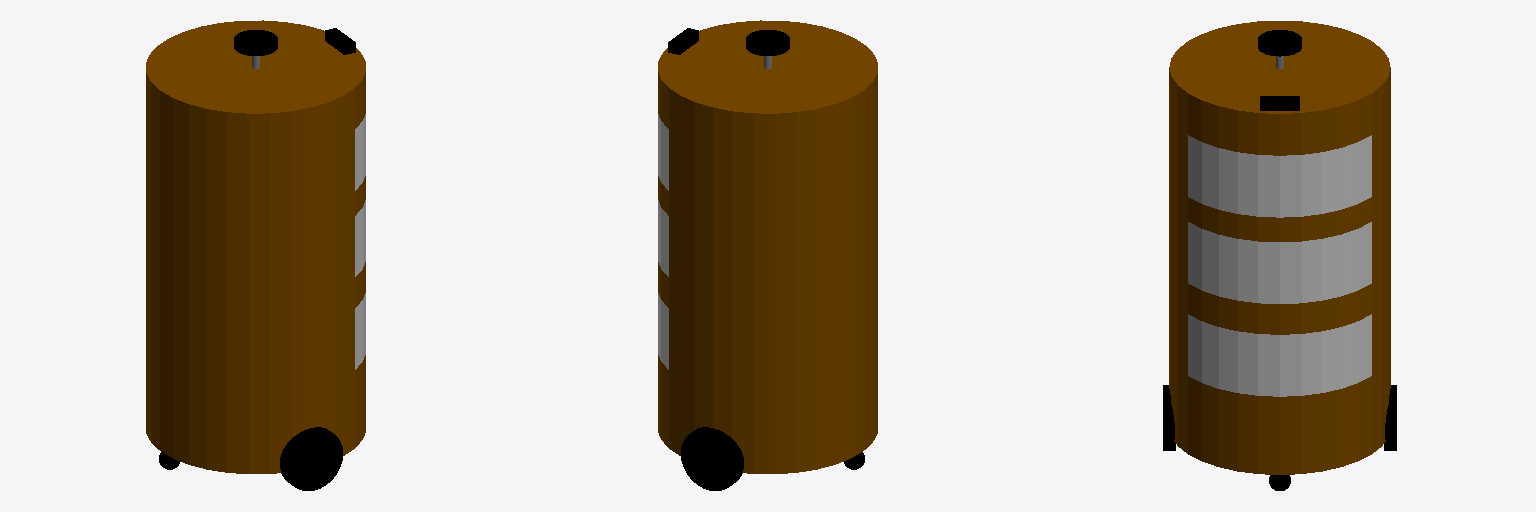
The robot description file, URDF, robot "my_car_camera":
<?xml version="1.0" ?>
<!-- =================================================================================== -->
<!-- |    This document was autogenerated by xacro from test.xacro                     | -->
<!-- |    EDITING THIS FILE BY HAND IS NOT RECOMMENDED                                 | -->
<!-- =================================================================================== -->
<!-- 组合小车底盘与摄像头 -->
<robot name="my_car_camera">
  <!-- 底盘 -->
  <link name="base_footprint">
    <visual>
      <geometry>
        <sphere radius="0.001"/>
      </geometry>
    </visual>
  </link>
  <link name="base_link">
    <visual>
      <geometry>
        <!-- 使用DAE模型作为视觉 -->
        <mesh filename="package://zj_base/meshes/modle.dae"/>
      </geometry>
      <origin rpy="0 0 0" xyz="0 0 0"/>
      <material name="yellow">
        <color rgba="0.5 0.3 0.0 0.5"/>
      </material>
    </visual>
    <collision>
      <geometry>
        <!-- 使用相同的DAE模型作为碰撞体 -->
        <mesh filename="package://zj_base/meshes/modle.dae"/>
      </geometry>
      <origin rpy="0 0 0" xyz="0 0 0"/>
    </collision>
    <inertial>
      <mass value="5.0"/>
      <inertia ixx="0.4156250000000001" ixy="0" ixz="0" iyy="0.4156250000000001" iyz="0" izz="0.15625"/>
    </inertial>
  </link>
  <joint name="base_link2base_footprint" type="fixed">
    <parent link="base_footprint"/>
    <child link="base_link"/>
    <origin xyz="0 0 0.5"/>
  </joint>
  <!-- <gazebo reference="base_link">
        <material>Gazebo/Yellow</material>
    </gazebo> -->
  <link name="left_wheel">
    <visual>
      <geometry>
        <cylinder length="0.03" radius="0.075"/>
      </geometry>
      <origin rpy="1.5707963 0.0 0.0" xyz="0.0 0.0 0.0"/>
      <material name="black">
        <color rgba="0.0 0.0 0.0 1.0"/>
      </material>
    </visual>
    <collision>
      <geometry>
        <cylinder length="0.03" radius="0.075"/>
      </geometry>
      <origin rpy="1.5707963 0.0 0.0" xyz="0.0 0.0 0.0"/>
    </collision>
    <inertial>
      <mass value="0.2"/>
      <inertia ixx="0.00029625" ixy="0" ixz="0" iyy="0.00029625" iyz="0" izz="0.0005625"/>
    </inertial>
  </link>
  <joint name="left_wheel2base_link" type="continuous">
    <parent link="base_link"/>
    <child link="left_wheel"/>
    <origin xyz="0 0.25 -0.425"/>
    <axis xyz="0 1 0"/>
  </joint>
  <gazebo reference="left_wheel">
    <material>Gazebo/Black</material>
  </gazebo>
  <link name="right_wheel">
    <visual>
      <geometry>
        <cylinder length="0.03" radius="0.075"/>
      </geometry>
      <origin rpy="1.5707963 0.0 0.0" xyz="0.0 0.0 0.0"/>
      <material name="black">
        <color rgba="0.0 0.0 0.0 1.0"/>
      </material>
    </visual>
    <collision>
      <geometry>
        <cylinder length="0.03" radius="0.075"/>
      </geometry>
      <origin rpy="1.5707963 0.0 0.0" xyz="0.0 0.0 0.0"/>
    </collision>
    <inertial>
      <mass value="0.2"/>
      <inertia ixx="0.00029625" ixy="0" ixz="0" iyy="0.00029625" iyz="0" izz="0.0005625"/>
    </inertial>
  </link>
  <joint name="right_wheel2base_link" type="continuous">
    <parent link="base_link"/>
    <child link="right_wheel"/>
    <origin xyz="0 -0.25 -0.425"/>
    <axis xyz="0 1 0"/>
  </joint>
  <gazebo reference="right_wheel">
    <material>Gazebo/Black</material>
  </gazebo>
  <link name="front_wheel">
    <visual>
      <geometry>
        <sphere radius="0.025"/>
      </geometry>
      <origin rpy="0 0 0" xyz="0 0 0"/>
      <material name="black">
        <color rgba="0.0 0.0 0.0 1.0"/>
      </material>
    </visual>
    <collision>
      <geometry>
        <sphere radius="0.025"/>
      </geometry>
      <origin rpy="0 0 0" xyz="0 0 0"/>
    </collision>
    <inertial>
      <mass value="0.1"/>
      <inertia ixx="2.5000000000000005e-05" ixy="0" ixz="0" iyy="2.5000000000000005e-05" iyz="0" izz="2.5000000000000005e-05"/>
    </inertial>
  </link>
  <joint name="front_wheel2base_link" type="continuous">
    <parent link="base_link"/>
    <child link="front_wheel"/>
    <origin xyz="0.225 0 -0.47500000000000003"/>
    <axis xyz="1 0 0"/>
  </joint>
  <gazebo reference="front_wheel">
    <material>Gazebo/Black</material>
    <mu1>0.0</mu1>
    <mu2>0.0</mu2>
    <kp>1000000.0</kp>
    <kd>100.0</kd>
  </gazebo>
  <link name="back_wheel">
    <visual>
      <geometry>
        <sphere radius="0.025"/>
      </geometry>
      <origin rpy="0 0 0" xyz="0 0 0"/>
      <material name="black">
        <color rgba="0.0 0.0 0.0 1.0"/>
      </material>
    </visual>
    <collision>
      <geometry>
        <sphere radius="0.025"/>
      </geometry>
      <origin rpy="0 0 0" xyz="0 0 0"/>
    </collision>
    <inertial>
      <mass value="0.1"/>
      <inertia ixx="2.5000000000000005e-05" ixy="0" ixz="0" iyy="2.5000000000000005e-05" iyz="0" izz="2.5000000000000005e-05"/>
    </inertial>
  </link>
  <joint name="back_wheel2base_link" type="continuous">
    <parent link="base_link"/>
    <child link="back_wheel"/>
    <origin xyz="-0.225 0 -0.47500000000000003"/>
    <axis xyz="1 0 0"/>
  </joint>
  <gazebo reference="back_wheel">
    <material>Gazebo/Black</material>
    <mu1>0.0</mu1>
    <mu2>0.0</mu2>
    <kp>1000000.0</kp>
    <kd>100.0</kd>
  </gazebo>
  <!-- ==================== 传动装置宏定义 ==================== -->
  <!-- ==================== 应用传动装置 ==================== -->
  <transmission name="left_wheel2base_link_trans">
    <type>transmission_interface/SimpleTransmission</type>
    <joint name="left_wheel2base_link">
      <hardwareInterface>hardware_interface/VelocityJointInterface</hardwareInterface>
    </joint>
    <actuator name="left_wheel2base_link_motor">
      <hardwareInterface>hardware_interface/VelocityJointInterface</hardwareInterface>
      <mechanicalReduction>1</mechanicalReduction>
    </actuator>
  </transmission>
  <transmission name="right_wheel2base_link_trans">
    <type>transmission_interface/SimpleTransmission</type>
    <joint name="right_wheel2base_link">
      <hardwareInterface>hardware_interface/VelocityJointInterface</hardwareInterface>
    </joint>
    <actuator name="right_wheel2base_link_motor">
      <hardwareInterface>hardware_interface/VelocityJointInterface</hardwareInterface>
      <mechanicalReduction>1</mechanicalReduction>
    </actuator>
  </transmission>
  <transmission name="drawer2base_link_trans">
    <type>transmission_interface/SimpleTransmission</type>
    <joint name="drawer2base_link">
      <hardwareInterface>hardware_interface/EffortJointInterface</hardwareInterface>
    </joint>
    <actuator name="drawer2base_link_motor">
      <hardwareInterface>hardware_interface/EffortJointInterface</hardwareInterface>
      <mechanicalReduction>1</mechanicalReduction>
    </actuator>
  </transmission>
  <transmission name="drawer22base_link_trans">
    <type>transmission_interface/SimpleTransmission</type>
    <joint name="drawer22base_link">
      <hardwareInterface>hardware_interface/EffortJointInterface</hardwareInterface>
    </joint>
    <actuator name="drawer22base_link_motor">
      <hardwareInterface>hardware_interface/EffortJointInterface</hardwareInterface>
      <mechanicalReduction>1</mechanicalReduction>
    </actuator>
  </transmission>
  <transmission name="drawer32base_link_trans">
    <type>transmission_interface/SimpleTransmission</type>
    <joint name="drawer32base_link">
      <hardwareInterface>hardware_interface/EffortJointInterface</hardwareInterface>
    </joint>
    <actuator name="drawer32base_link_motor">
      <hardwareInterface>hardware_interface/EffortJointInterface</hardwareInterface>
      <mechanicalReduction>1</mechanicalReduction>
    </actuator>
  </transmission>
  <!-- ==================== Gazebo 插件配置 ==================== -->
  <!-- 统一的 Gazebo ROS Control 插件 -->
  <gazebo>
    <plugin filename="libgazebo_ros_control.so" name="gazebo_ros_control">
      <robotNamespace>/</robotNamespace>
      <robotSimType>gazebo_ros_control/DefaultRobotHWSim</robotSimType>
      <controlPeriod>0.001</controlPeriod>
      <!-- 可选：配置所有关节的默认PID -->
      <jointInterfaceDefaults>
        <effort>
          <p>100.0</p>
          <i>1.0</i>
          <d>5.0</d>
        </effort>
        <velocity>
          <p>1000.0</p>
          <i>0.1</i>
          <d>0.0</d>
        </velocity>
      </jointInterfaceDefaults>
    </plugin>
  </gazebo>
  <!-- 支架安装的z坐标:底盘高度 / 2 + 支架高度 / 2  -->
  <link name="suport">
    <visual>
      <geometry>
        <cylinder length="0.05" radius="0.01"/>
      </geometry>
      <origin rpy="0 0 0" xyz="0.0 0.0 0.0"/>
      <material name="grey">
        <color rgba="0.5 0.5 0.5 1.0"/>
      </material>
    </visual>
    <collision>
      <geometry>
        <cylinder length="0.05" radius="0.01"/>
      </geometry>
      <origin rpy="0 0 0" xyz="0.0 0.0 0.0"/>
    </collision>
    <inertial>
      <origin xyz="0 0 0"/>
      <mass value="0.1"/>
      <inertia ixx="0.0001" ixy="0" ixz="0" iyy="0.0001" iyz="0" izz="0.0001"/>
    </inertial>
  </link>
  <joint name="support2base_link" type="fixed">
    <parent link="base_link"/>
    <child link="suport"/>
    <origin rpy="0 0 0" xyz="0 0 0.47500000000000003"/>
  </joint>
  <link name="laser">
    <visual>
      <geometry>
        <cylinder length="0.02" radius="0.05"/>
      </geometry>
      <origin rpy="0 0 0" xyz="0 0 0"/>
      <material name="black">
        <color rgba="0.0 0.0 0.0 1.0"/>
      </material>
    </visual>
    <collision>
      <geometry>
        <cylinder length="0.02" radius="0.05"/>
      </geometry>
      <origin rpy="0 0 0" xyz="0 0 0"/>
    </collision>
    <inertial>
      <origin xyz="0 0 0"/>
      <mass value="0.2"/>
      <inertia ixx="0.0001" ixy="0" ixz="0" iyy="0.0001" iyz="0" izz="0.0001"/>
    </inertial>
  </link>
  <joint name="laser2support" type="fixed">
    <parent link="suport"/>
    <child link="laser"/>
    <origin rpy="0 0 0" xyz="0 0 0.035"/>
  </joint>
  <!-- 雷达 -->
  <gazebo reference="laser">
    <sensor name="rplidar" type="ray">
      <pose>0 0 0 0 0 0</pose>
      <visualize>false</visualize>
      <update_rate>5.5</update_rate>
      <ray>
        <scan>
          <horizontal>
            <samples>360</samples>
            <resolution>1</resolution>
            <min_angle>-3.14159</min_angle>
            <max_angle>3.14159</max_angle>
          </horizontal>
        </scan>
        <range>
          <min>0.10</min>
          <max>30.0</max>
          <resolution>0.01</resolution>
        </range>
        <noise>
          <type>gaussian</type>
          <mean>0.0</mean>
          <stddev>0.01</stddev>
        </noise>
      </ray>
      <plugin filename="libgazebo_ros_laser.so" name="gazebo_rplidar">
        <topicName>/scan</topicName>
        <frameName>laser</frameName>
      </plugin>
    </sensor>
  </gazebo>
  <!-- 抽屉组件1 - 使用DAE格式的mesh碰撞体 -->
  <link name="drawer">
    <visual>
      <geometry>
        <!-- 替换为DAE文件 -->
        <mesh filename="package://zj_base/meshes/mdae.dae"/>
      </geometry>
      <origin rpy="0 0 0" xyz="0 0 0"/>
      <material name="drawer_material">
        <color rgba="0.8 0.8 0.8 1.0"/>
      </material>
    </visual>
    <collision>
      <geometry>
        <!-- 替换为DAE文件 -->
        <mesh filename="package://zj_base/meshes/mdae.dae"/>
      </geometry>
      <origin rpy="0 0 0" xyz="0 0 0"/>
      <surface>
        <contact>
          <ode>
            <soft_cfm>0.0</soft_cfm>
            <soft_erp>0.2</soft_erp>
            <kp>1e12</kp>
            <!-- 大幅增加接触刚度防止穿透 -->
            <kd>1000</kd>
            <!-- 增加接触阻尼 -->
            <max_vel>10.0</max_vel>
            <!-- 增加最大接触速度 -->
            <min_depth>0.0001</min_depth>
            <!-- 减小最小穿透深度 -->
          </ode>
        </contact>
        <friction>
          <ode>
            <mu>1.0</mu>
            <!-- 增加摩擦系数 -->
            <mu2>0.8</mu2>
            <slip1>0.0</slip1>
            <slip2>0.0</slip2>
            <fdir1>1 0 0</fdir1>
          </ode>
        </friction>
        <bounce>
          <restitution_coefficient>0.0</restitution_coefficient>
          <threshold>1.0</threshold>
        </bounce>
      </surface>
    </collision>
    <inertial>
      <origin xyz="0 0 0"/>
      <mass value="2.0"/>
      <!-- 适当增加质量提高稳定性 -->
      <inertia ixx="0.001" ixy="0" ixz="0" iyy="0.001" iyz="0" izz="0.001"/>
    </inertial>
  </link>
  <joint name="drawer2base_link" type="prismatic">
    <parent link="base_link"/>
    <child link="drawer"/>
    <origin rpy="0 0 0" xyz="0 0 0"/>
    <axis xyz="1 0 0"/>
    <limit effort="1000" lower="0" upper="0.2" velocity="2.0"/>
    <!-- 增加effort -->
    <dynamics damping="0.1" friction="0.0"/>
    <!-- 适当增加阻尼 -->
  </joint>
  <gazebo reference="drawer">
    <material>Gazebo/Grey</material>
    <selfCollide>true</selfCollide>
    <mu1>1.0</mu1>
    <!-- 增加摩擦 -->
    <mu2>0.8</mu2>
    <kp>1e12</kp>
    <!-- 大幅增加接触刚度 -->
    <kd>1000.0</kd>
    <!-- 增加接触阻尼 -->
    <minDepth>0.0001</minDepth>
    <!-- 减小最小穿透深度 -->
    <maxVel>10.0</maxVel>
    <!-- 增加最大接触速度 -->
    <laserRetro>0</laserRetro>
  </gazebo>
  <gazebo reference="drawer2base_link">
    <stopCfm>0.0</stopCfm>
    <stopErp>0.9</stopErp>
    <!-- 增加ERP提高约束精度 -->
    <provideFeedback>true</provideFeedback>
    <physics>
      <ode>
        <limit>
          <cfm>0.0</cfm>
          <erp>0.9</erp>
          <!-- 增加ERP -->
        </limit>
        <fdir1>1 0 0</fdir1>
        <friction>1.0 0.8 0.0</friction>
        <!-- 增加摩擦 -->
        <suspension>
          <cfm>0.0</cfm>
          <erp>0.9</erp>
        </suspension>
      </ode>
    </physics>
  </gazebo>
  <!-- 抽屉组件2 - 保持STL格式 -->
  <link name="drawer2">
    <visual>
      <geometry>
        <mesh filename="package://zj_base/meshes/box2.dae"/>
      </geometry>
      <origin rpy="0 0 0" xyz="0 0 0"/>
      <material name="drawer_material">
        <color rgba="0.8 0.8 0.8 1.0"/>
      </material>
    </visual>
    <collision>
      <geometry>
        <mesh filename="package://zj_base/meshes/box2.dae"/>
      </geometry>
      <origin rpy="0 0 0" xyz="0 0 0"/>
      <surface>
        <contact>
          <ode>
            <soft_cfm>0.0</soft_cfm>
            <soft_erp>0.2</soft_erp>
            <kp>1e12</kp>
            <kd>1000</kd>
            <max_vel>10.0</max_vel>
            <min_depth>0.0001</min_depth>
          </ode>
        </contact>
        <friction>
          <ode>
            <mu>1.0</mu>
            <mu2>0.8</mu2>
            <slip1>0.0</slip1>
            <slip2>0.0</slip2>
            <fdir1>1 0 0</fdir1>
          </ode>
        </friction>
        <bounce>
          <restitution_coefficient>0.0</restitution_coefficient>
          <threshold>1.0</threshold>
        </bounce>
      </surface>
    </collision>
    <inertial>
      <origin xyz="0 0 0"/>
      <mass value="2.0"/>
      <inertia ixx="0.001" ixy="0" ixz="0" iyy="0.001" iyz="0" izz="0.001"/>
    </inertial>
  </link>
  <joint name="drawer22base_link" type="prismatic">
    <parent link="base_link"/>
    <child link="drawer2"/>
    <origin rpy="0 0 0" xyz="0 0 0"/>
    <axis xyz="1 0 0"/>
    <limit effort="1000" lower="0" upper="0.2" velocity="2.0"/>
    <dynamics damping="0.1" friction="0.0"/>
  </joint>
  <gazebo reference="drawer2">
    <material>Gazebo/Grey</material>
    <selfCollide>true</selfCollide>
    <mu1>1.0</mu1>
    <mu2>0.8</mu2>
    <kp>1e12</kp>
    <kd>1000.0</kd>
    <minDepth>0.0001</minDepth>
    <maxVel>10.0</maxVel>
    <laserRetro>0</laserRetro>
  </gazebo>
  <gazebo reference="drawer22base_link">
    <stopCfm>0.0</stopCfm>
    <stopErp>0.9</stopErp>
    <provideFeedback>true</provideFeedback>
    <physics>
      <ode>
        <limit>
          <cfm>0.0</cfm>
          <erp>0.9</erp>
        </limit>
        <fdir1>1 0 0</fdir1>
        <friction>1.0 0.8 0.0</friction>
        <suspension>
          <cfm>0.0</cfm>
          <erp>0.9</erp>
        </suspension>
      </ode>
    </physics>
  </gazebo>
  <!-- 抽屉组件3 - 保持STL格式 -->
  <link name="drawer3">
    <visual>
      <geometry>
        <mesh filename="package://zj_base/meshes/box3.dae"/>
      </geometry>
      <origin rpy="0 0 0" xyz="0 0 0"/>
      <material name="drawer_material">
        <color rgba="0.8 0.8 0.8 1.0"/>
      </material>
    </visual>
    <collision>
      <geometry>
        <mesh filename="package://zj_base/meshes/box3.dae"/>
      </geometry>
      <origin rpy="0 0 0" xyz="0 0 0"/>
      <surface>
        <contact>
          <ode>
            <soft_cfm>0.0</soft_cfm>
            <soft_erp>0.2</soft_erp>
            <kp>1e12</kp>
            <kd>1000</kd>
            <max_vel>10.0</max_vel>
            <min_depth>0.0001</min_depth>
          </ode>
        </contact>
        <friction>
          <ode>
            <mu>1.0</mu>
            <mu2>0.8</mu2>
            <slip1>0.0</slip1>
            <slip2>0.0</slip2>
            <fdir1>1 0 0</fdir1>
          </ode>
        </friction>
        <bounce>
          <restitution_coefficient>0.0</restitution_coefficient>
          <threshold>1.0</threshold>
        </bounce>
      </surface>
    </collision>
    <inertial>
      <origin xyz="0 0 0"/>
      <mass value="2.0"/>
      <inertia ixx="0.001" ixy="0" ixz="0" iyy="0.001" iyz="0" izz="0.001"/>
    </inertial>
  </link>
  <joint name="drawer32base_link" type="prismatic">
    <parent link="base_link"/>
    <child link="drawer3"/>
    <origin rpy="0 0 0" xyz="0 0 0"/>
    <axis xyz="1 0 0"/>
    <limit effort="1000" lower="0" upper="0.2" velocity="2.0"/>
    <dynamics damping="0.1" friction="0.0"/>
  </joint>
  <gazebo reference="drawer3">
    <material>Gazebo/Grey</material>
    <selfCollide>true</selfCollide>
    <mu1>1.0</mu1>
    <mu2>0.8</mu2>
    <kp>1e12</kp>
    <kd>1000.0</kd>
    <minDepth>0.0001</minDepth>
    <maxVel>10.0</maxVel>
    <laserRetro>0</laserRetro>
  </gazebo>
  <gazebo reference="drawer32base_link">
    <stopCfm>0.0</stopCfm>
    <stopErp>0.9</stopErp>
    <provideFeedback>true</provideFeedback>
    <physics>
      <ode>
        <limit>
          <cfm>0.0</cfm>
          <erp>0.9</erp>
        </limit>
        <fdir1>1 0 0</fdir1>
        <friction>1.0 0.8 0.0</friction>
        <suspension>
          <cfm>0.0</cfm>
          <erp>0.9</erp>
        </suspension>
      </ode>
    </physics>
  </gazebo>
  <!-- 定义深度相机的link -->
  <link name="depth_camera">
    <visual>
      <geometry>
        <box size="0.09 0.03 0.025"/>
      </geometry>
      <origin rpy="0 0 1.5705" xyz="0 0 0"/>
      <material name="black">
        <color rgba="0.0 0.0 0.0 1.0"/>
      </material>
    </visual>
    <collision>
      <geometry>
        <box size="0.09 0.03 0.025"/>
      </geometry>
      <origin rpy="0 0 1.5705" xyz="0 0 0"/>
    </collision>
    <inertial>
      <origin xyz="0 0 0"/>
      <mass value="0.15"/>
      <!-- 深度相机稍重一些 -->
      <inertia ixx="0.0001" ixy="0" ixz="0" iyy="0.0001" iyz="0" izz="0.0001"/>
    </inertial>
  </link>
  <!-- 将深度相机连接到base_link -->
  <joint name="depth_camera2base_link" type="fixed">
    <parent link="base_link"/>
    <child link="depth_camera"/>
    <origin rpy="0 0 0" xyz="0.22 0.0 0.4625"/>
  </joint>
  <!-- Gazebo可视化材质 -->
  <gazebo reference="depth_camera">
    <material>Gazebo/Black</material>
  </gazebo>
  <!-- 深度相机传感器配置 -->
  <gazebo reference="depth_camera">
    <!-- 类型设置为 depth -->
    <sensor name="depth_camera_node" type="depth">
      <update_rate>30.0</update_rate>
      <!-- 摄像头基本信息设置 -->
      <camera name="depth_head">
        <horizontal_fov>1.52</horizontal_fov>
        <image>
          <width>640</width>
          <height>480</height>
          <format>L8</format>
          <!-- 改为L8或L16 -->
        </image>
        <clip>
          <near>0.2</near>
          <far>10.0</far>
        </clip>
        <noise>
          <type>gaussian</type>
          <mean>0.0</mean>
          <stddev>0.01</stddev>
        </noise>
      </camera>
      <!-- 深度图专用参数 -->
      <depth>
        <shift>0.0</shift>
        <noise>
          <type>gaussian</type>
          <mean>0.0</mean>
          <stddev>0.02</stddev>
        </noise>
      </depth>
      <!-- 核心插件 -->
      <plugin filename="libgazebo_ros_depth_camera.so" name="gazebo_depth_camera">
        <alwaysOn>true</alwaysOn>
        <updateRate>0.0</updateRate>
        <!-- 相机名称前缀 -->
        <cameraName>/depth_camera</cameraName>
        <!-- 深度图像话题 -->
        <depthImageTopicName>depth/image_raw</depthImageTopicName>
        <depthImageCameraInfoTopicName>depth/camera_info</depthImageCameraInfoTopicName>
        <!-- 点云话题 -->
        <pointCloudTopicName>depth/points</pointCloudTopicName>
        <pointCloudSkip>2</pointCloudSkip>
        <!-- 坐标系 -->
        <frameName>depth_camera</frameName>
        <!-- 深度有效范围 -->
        <pointCloudCutoff>0.2</pointCloudCutoff>
        <pointCloudCutoffMax>8.0</pointCloudCutoffMax>
        <!-- 基线距离 -->
        <hackBaseline>0.05</hackBaseline>
        <!-- 畸变参数 -->
        <distortionK1>0.0</distortionK1>
        <distortionK2>0.0</distortionK2>
        <distortionK3>0.0</distortionK3>
        <distortionT1>0.0</distortionT1>
        <distortionT2>0.0</distortionT2>
      </plugin>
    </sensor>
  </gazebo>
  <!-- <xacro:include filename="drawer_control.xacro" /> -->
</robot>

--- Render facts (derived) ---
The picture shows the robot from 3 angles, left to right: view 1: azimuth 30°, elevation 25°; view 2: azimuth 150°, elevation 25°; view 3: azimuth 270°, elevation 25°; orthographic projection.
Robot: my_car_camera — 12 links, 11 joints (4 continuous, 3 prismatic, 4 fixed); root link base_footprint; default pose: every joint at zero.
Links seen in each view (by area): view 1: base_link, right_wheel, laser, drawer, drawer3, drawer2, depth_camera; view 2: base_link, left_wheel, laser, drawer, drawer3, drawer2, depth_camera; view 3: base_link, drawer2, drawer, drawer3, laser, left_wheel, right_wheel, depth_camera.
Link boxes in pixels (x1,y1,x2,y2): base_link: [146, 20, 365, 473]; right_wheel: [280, 427, 342, 490]; laser: [234, 30, 277, 55]; drawer: [355, 114, 365, 190]; drawer3: [355, 293, 365, 369]; drawer2: [355, 200, 365, 276]; depth_camera: [325, 28, 355, 54]; base_link: [658, 20, 877, 473]; left_wheel: [681, 427, 743, 490]; laser: [746, 30, 789, 55]; drawer: [658, 114, 668, 190]; drawer3: [658, 293, 668, 369]; drawer2: [658, 200, 668, 276]; depth_camera: [668, 28, 698, 54]; base_link: [1169, 21, 1390, 474]; drawer2: [1188, 222, 1371, 303]; drawer: [1188, 135, 1371, 217]; drawer3: [1188, 314, 1371, 396]; laser: [1258, 30, 1301, 56]; left_wheel: [1384, 385, 1396, 450]; right_wheel: [1163, 385, 1175, 450]; depth_camera: [1260, 96, 1299, 110].
Bounding box of the posed robot: 0.5 × 0.53 × 1.02 m (x, y, z).
Meshes: 4 distinct files referenced, 4 mesh visuals loaded (4 Collada DAE).
